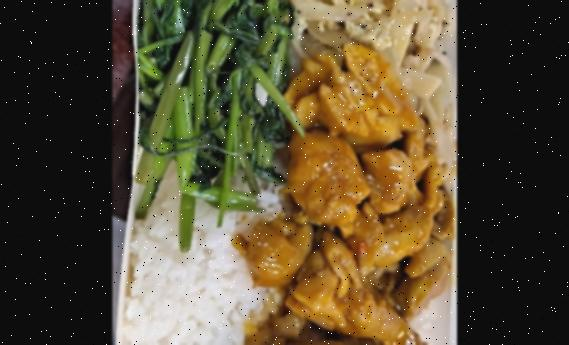box: (116, 0, 457, 345)
curry chicken: (227, 41, 457, 345)
side dish: (147, 0, 285, 162), (292, 0, 457, 68)
white rice: (127, 180, 274, 345)
